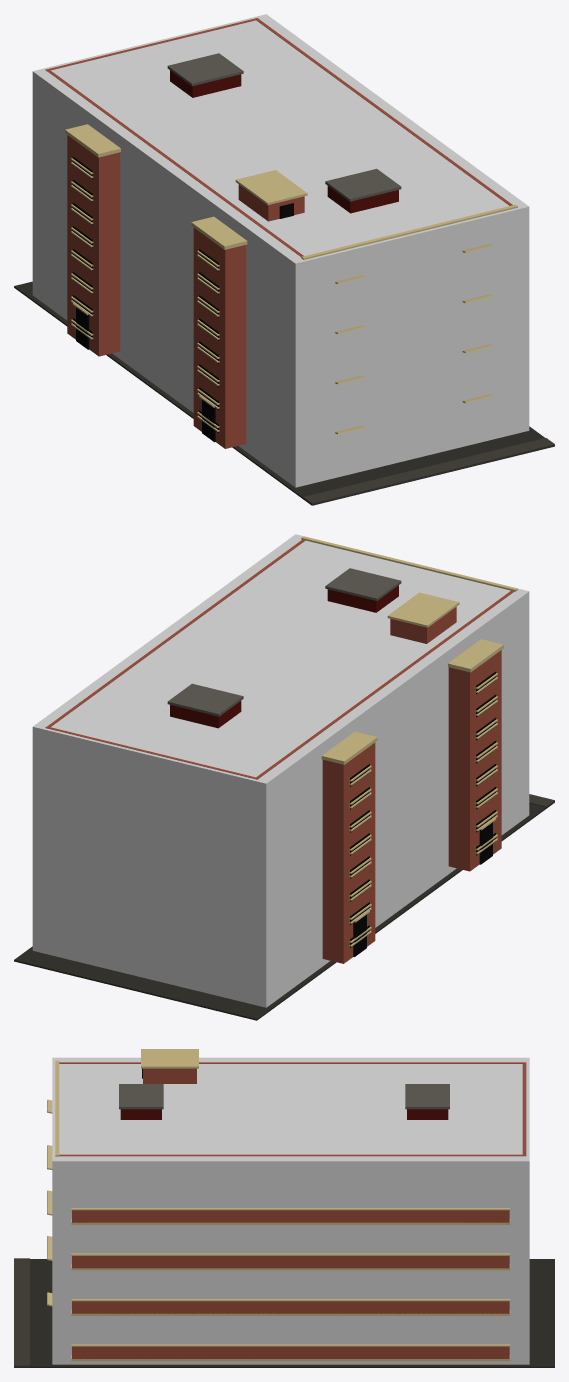
Rendered from K08_tnhb_block.glb.
The picture shows the model from 3 angles, top to bottom: view 1: azimuth 30°, elevation 25°; view 2: azimuth 150°, elevation 25°; view 3: azimuth 270°, elevation 25°; orthographic projection. The views are drawn at different scales.
Visible parts, largest first — view 1: COL_Main, LOD0; view 2: COL_Main, LOD0; view 3: COL_Main, LOD0.
Part boxes in pixels (x1=…): COL_Main: x1=32, y1=14, x2=529, y2=487; LOD0: x1=14, y1=18, x2=554, y2=505; COL_Main: x1=32, y1=534, x2=529, y2=1007; LOD0: x1=14, y1=536, x2=554, y2=1020; COL_Main: x1=52, y1=1057, x2=529, y2=1364; LOD0: x1=14, y1=1049, x2=554, y2=1367.
Size of what is drawn, in the model's own units: 17.63 by 15.44 by 34.
